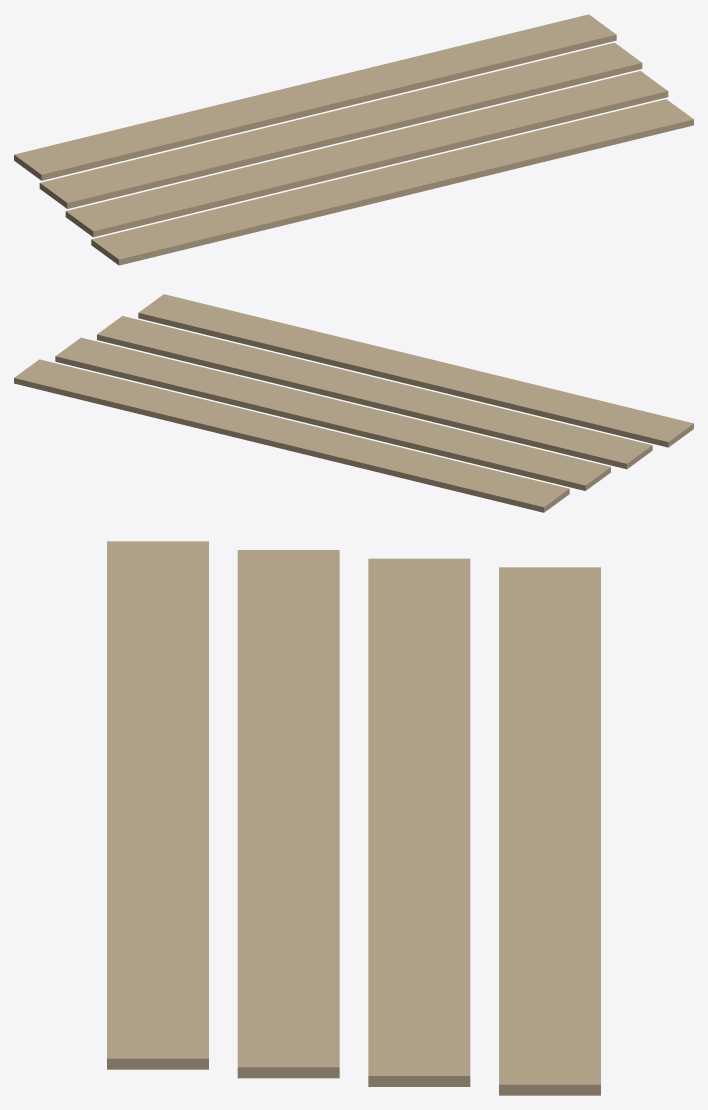
File: tabuas_soltas.glb
3 renders of one model, top to bottom at view 1: azimuth 30°, elevation 25°; view 2: azimuth 150°, elevation 25°; view 3: azimuth 270°, elevation 25°, orthographic. The views are drawn at different scales.
Visible parts, largest first — view 1: Malha_0; view 2: Malha_0; view 3: Malha_0.
Part boxes in pixels (x1,y1,x2,y2): Malha_0: [14, 14, 693, 265]; Malha_0: [14, 294, 693, 512]; Malha_0: [107, 541, 600, 1095].
Bounding box in the file's own units: 3.15 × 0.03 × 1.21.
